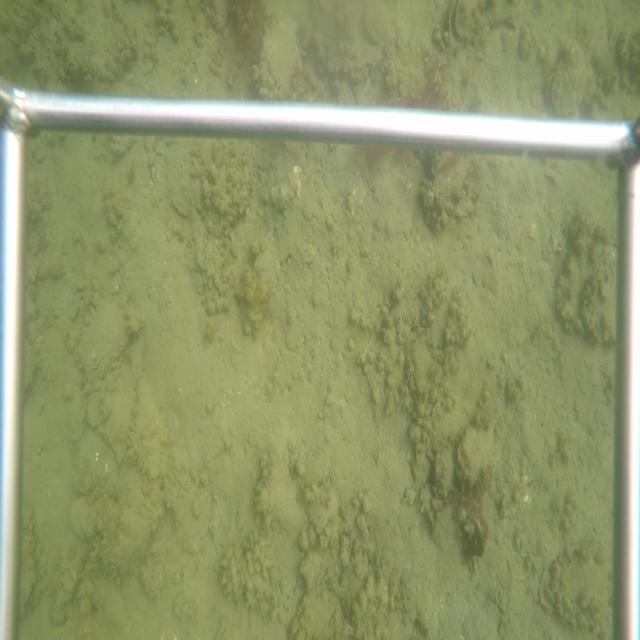Oyster-Indeterminate: (455, 425, 495, 485)
Oyster-Open: (544, 39, 588, 117), (444, 2, 486, 46)
